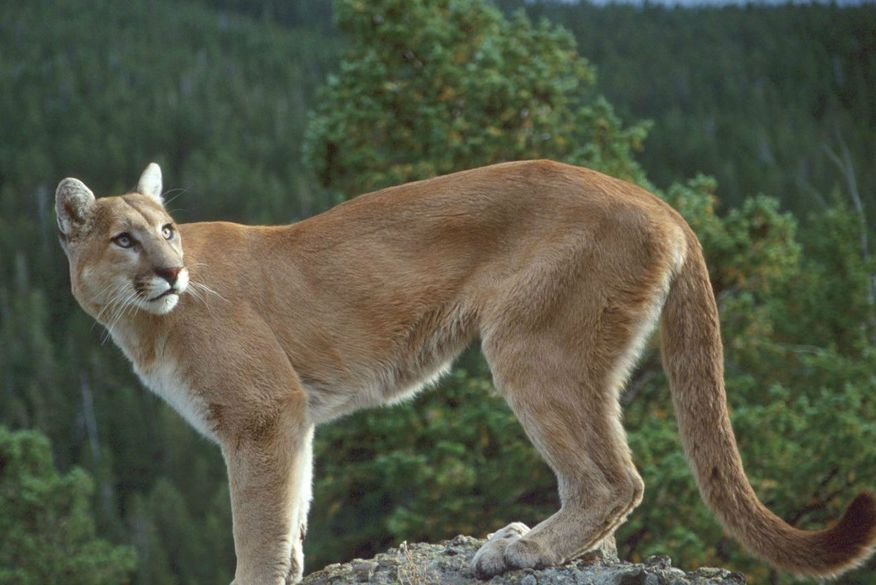OncaParda: (38, 151, 873, 581)
